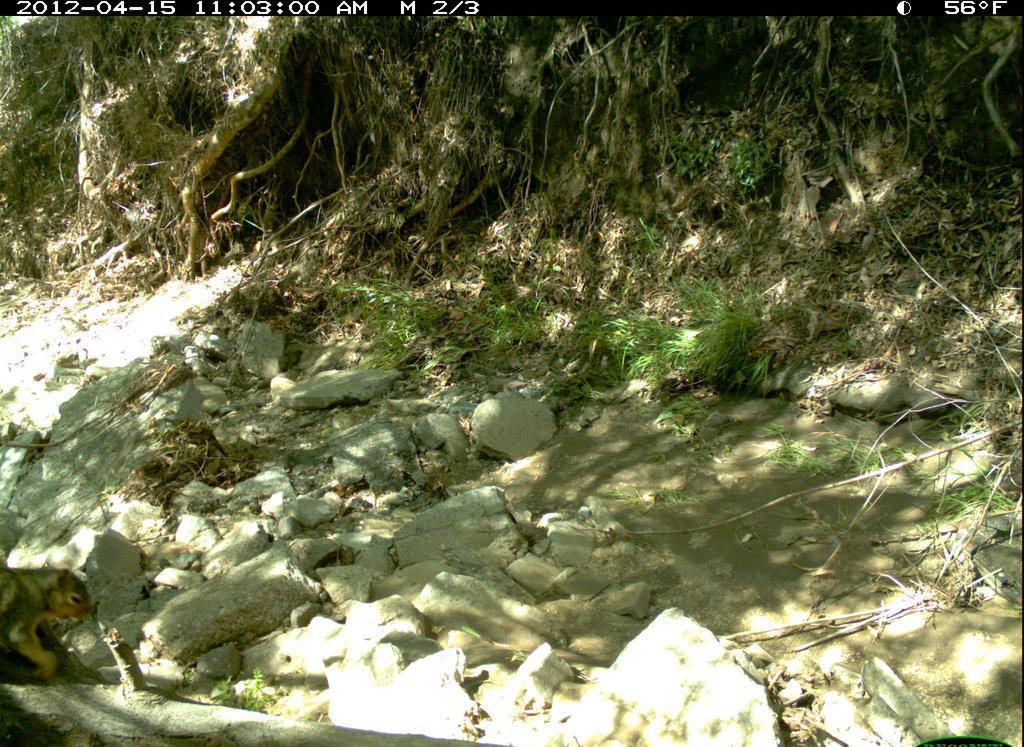squirrel: (3, 562, 107, 694)
